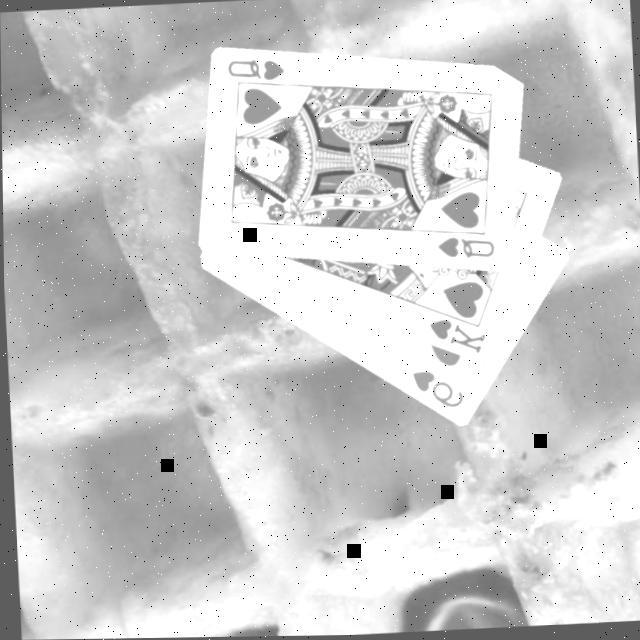6H: (404, 368, 464, 416)
KH: (422, 316, 487, 362)
QH: (222, 56, 292, 94), (432, 233, 496, 265)
